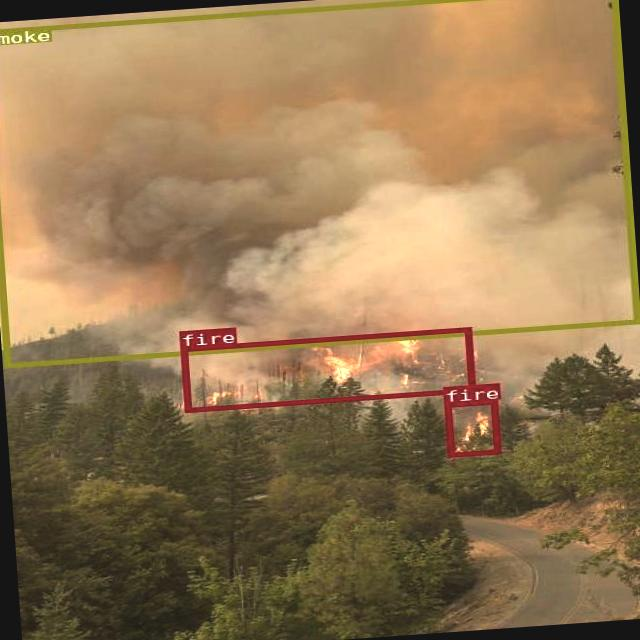fire: (180, 326, 473, 411), (444, 398, 499, 456)
smoke: (0, 0, 638, 366)
